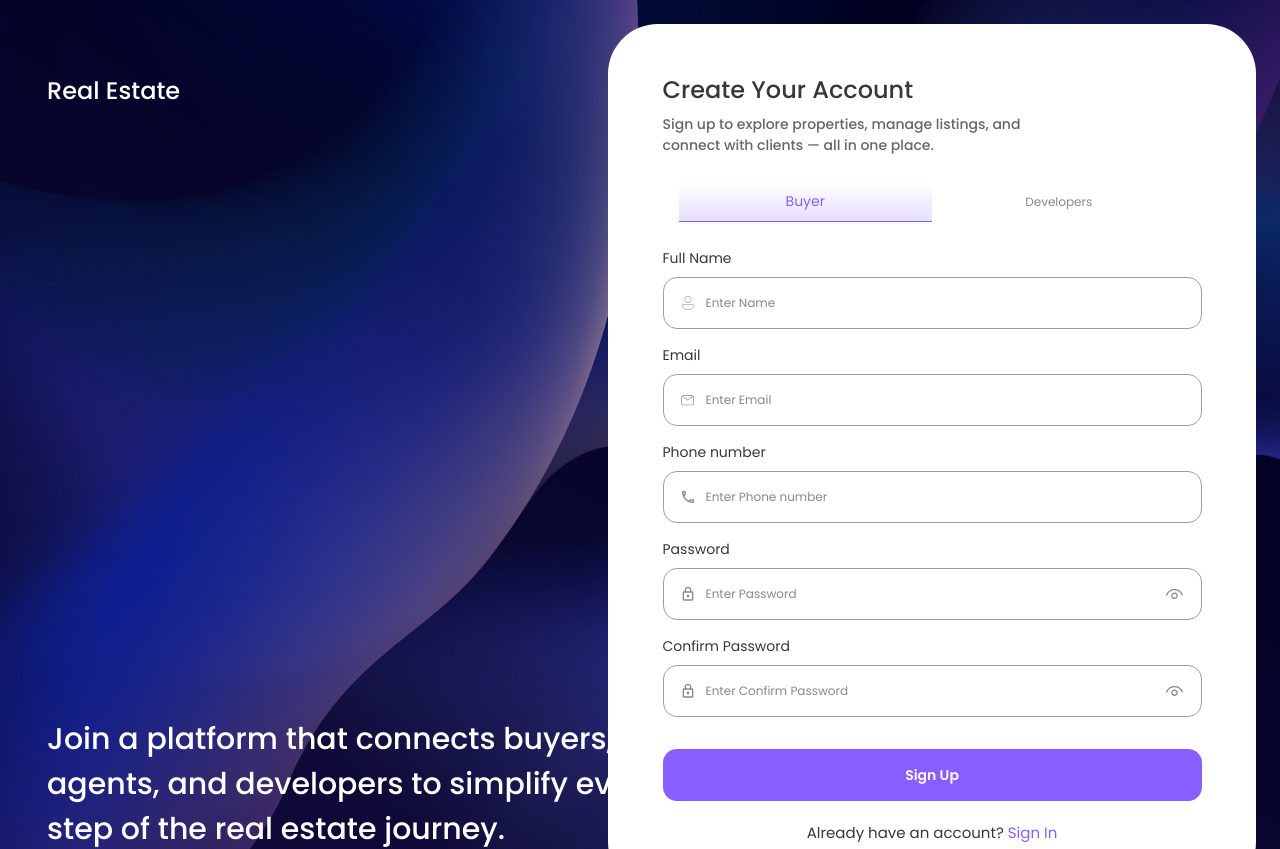
Test: SignUpPage › shows the shared format and policy messages
Step 1. Type "A" into the field labelled "Full Name" → (945, 303), box [706,278,1184,328]
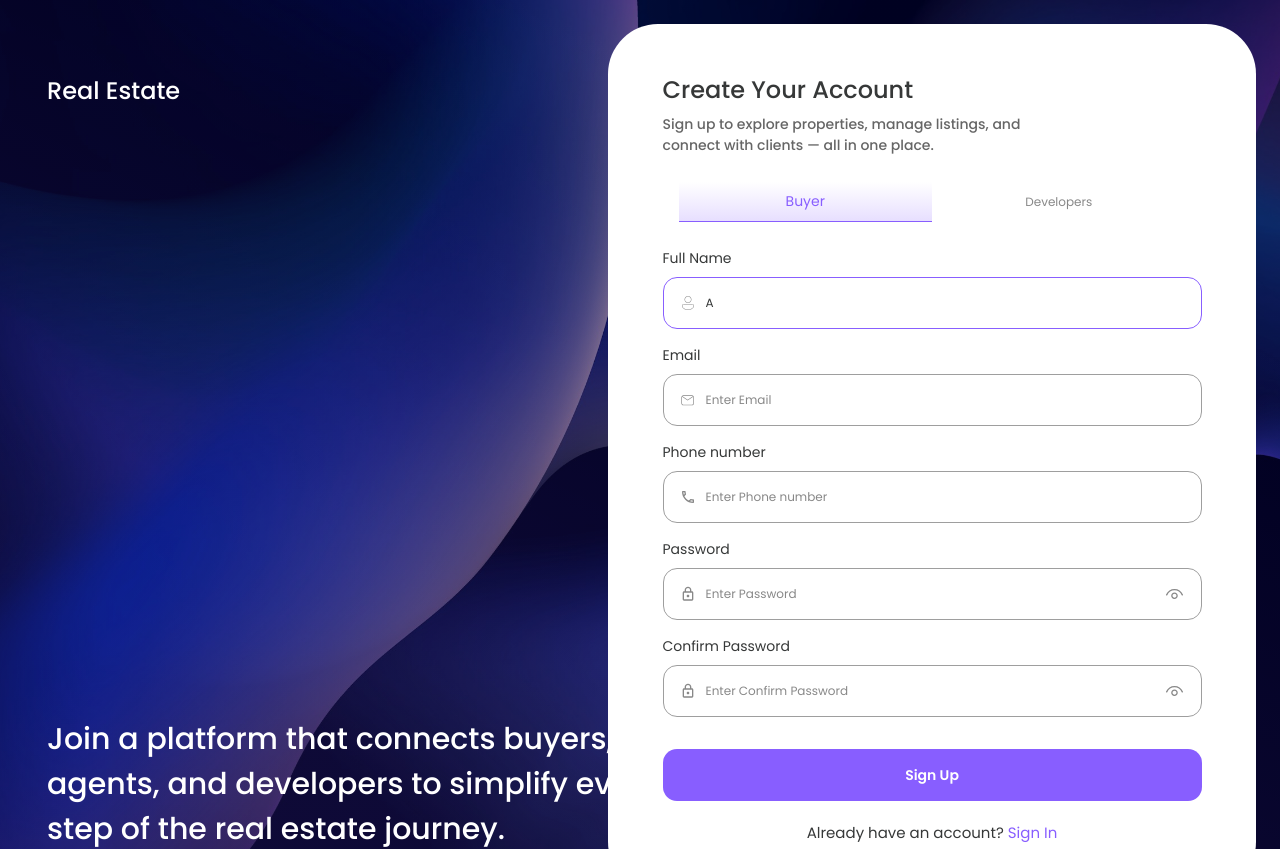
Step 2. Type "not-an-email" into the field labelled "Email" → (945, 400), box [706,375,1184,425]
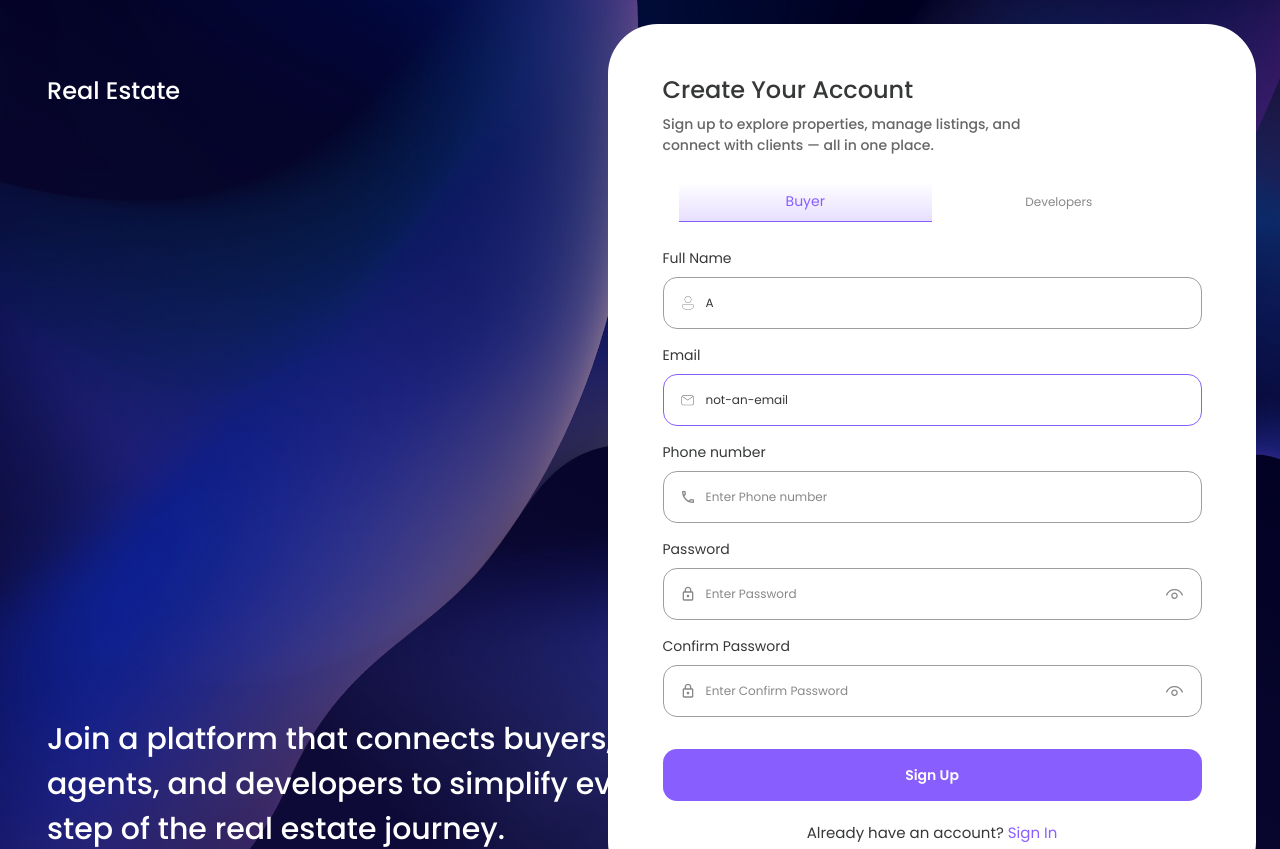
Step 3. Type "0501234567" into the field labelled "Phone number" → (945, 497), box [706,472,1184,522]
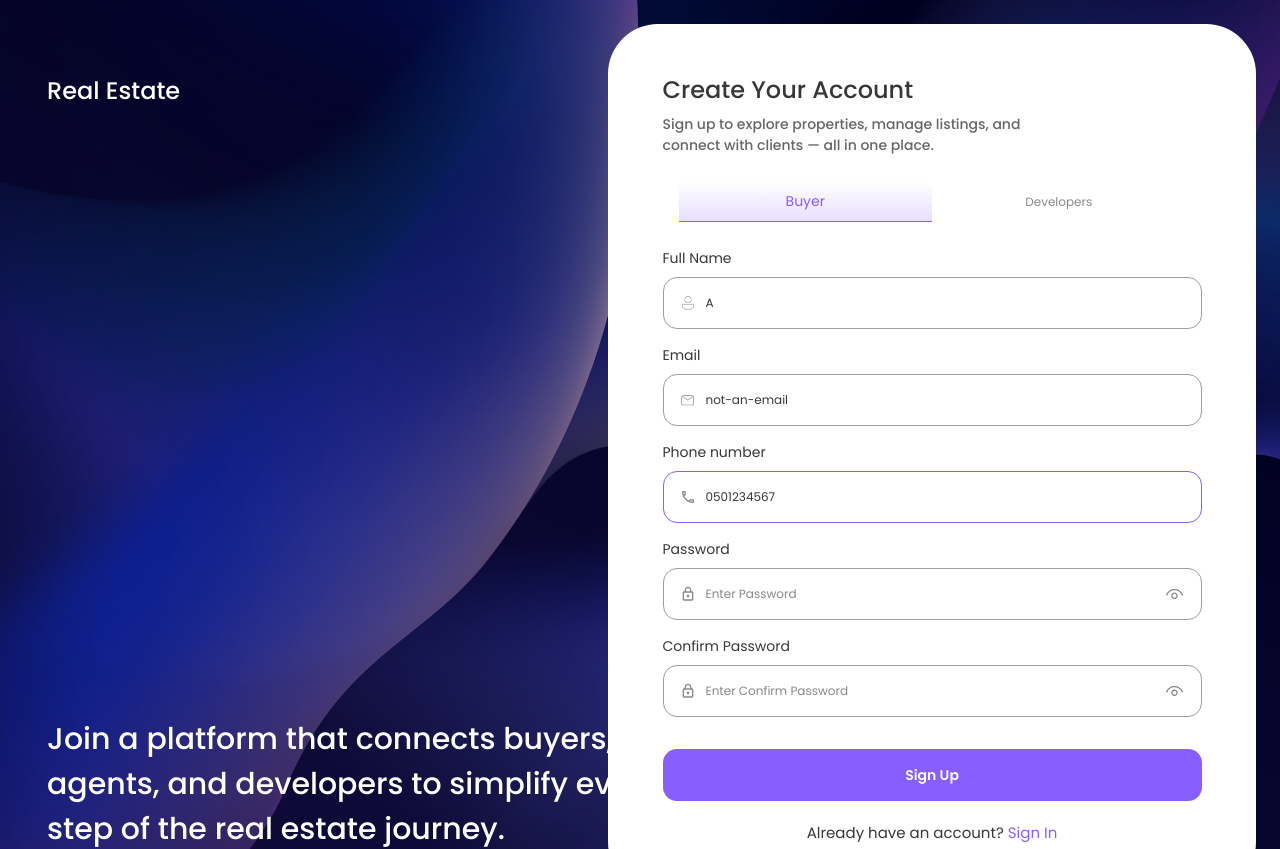
Step 4. Type "onlyletters" into the password field labelled "Password" → (930, 594), box [706,569,1154,619]
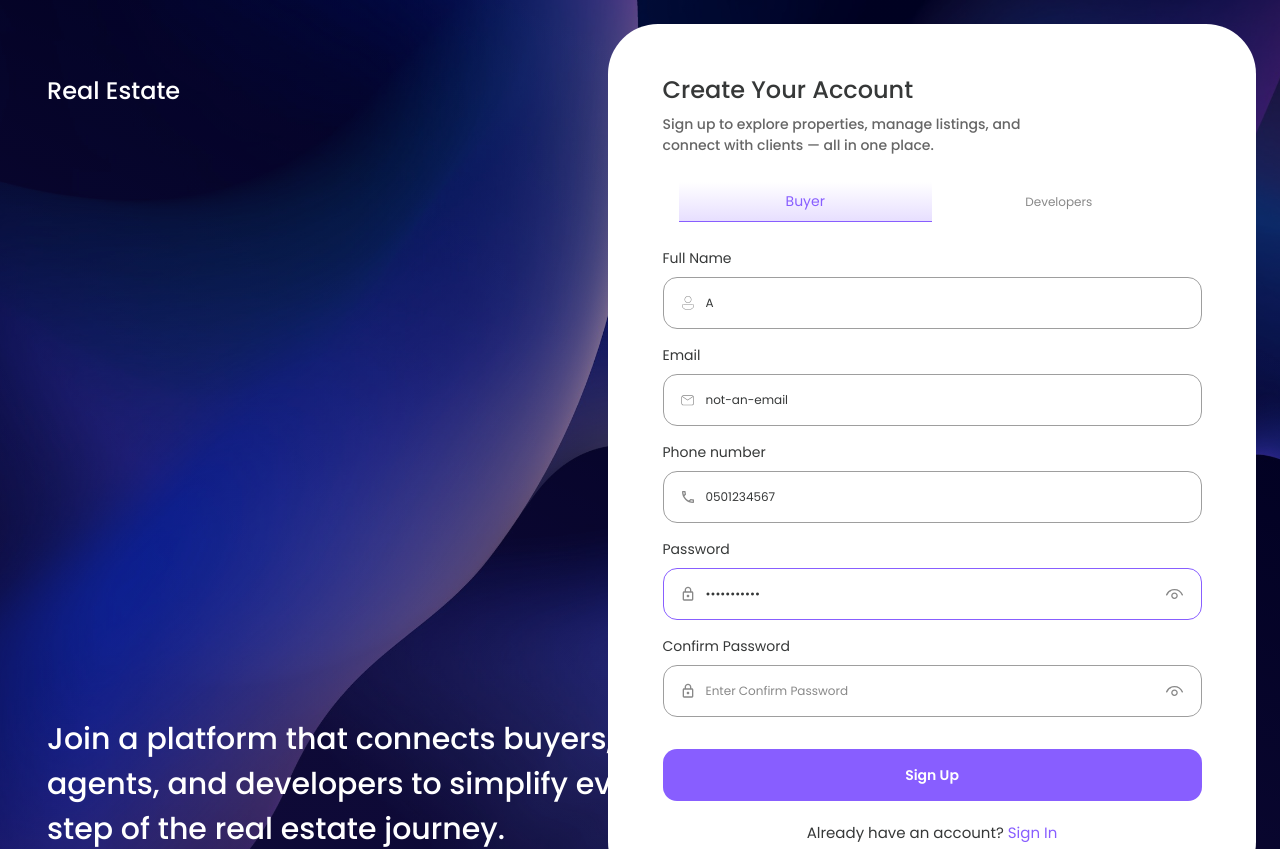
Step 5. Type "different1" into the password field labelled "Confirm Password" → (930, 691), box [706,666,1154,716]
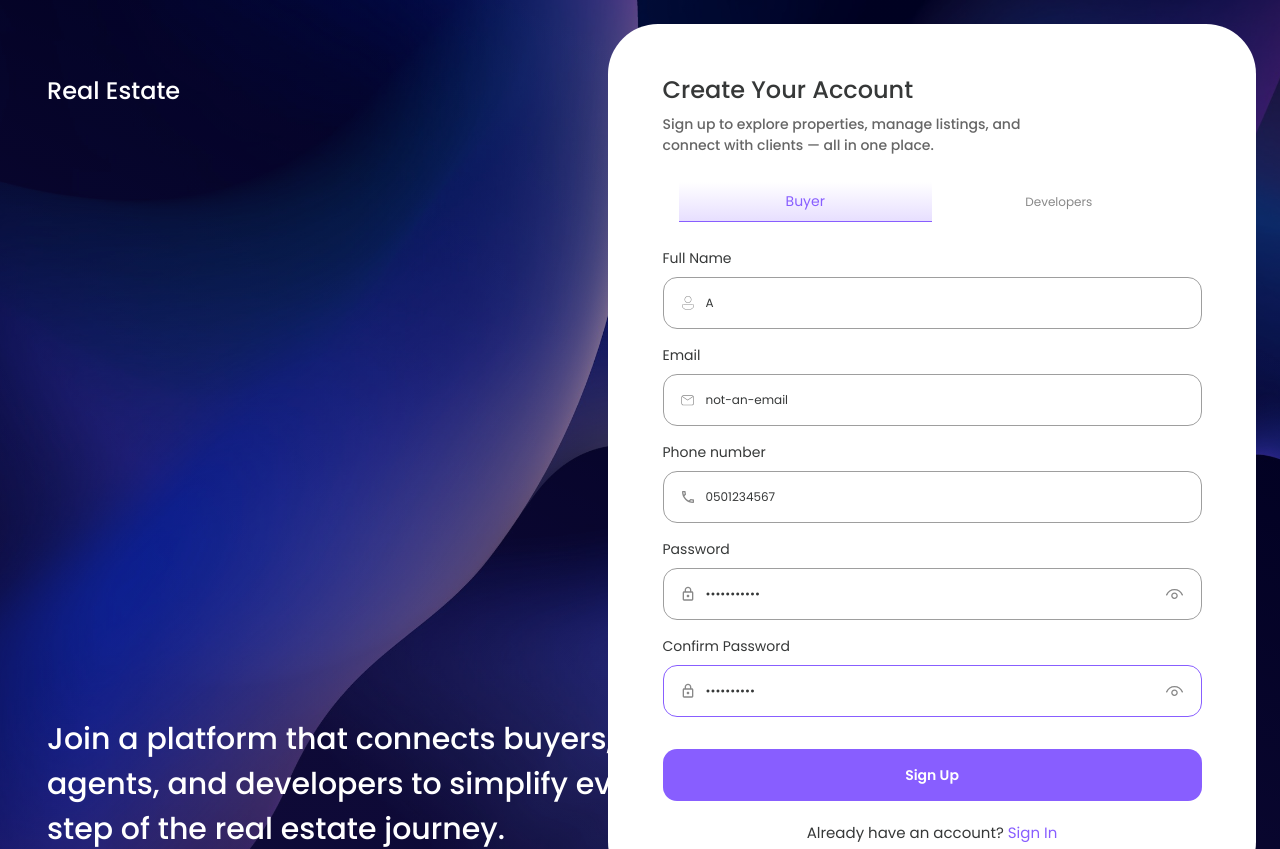
Step 6. Click the button "Sign Up" → (932, 775), box [662,749,1202,801]
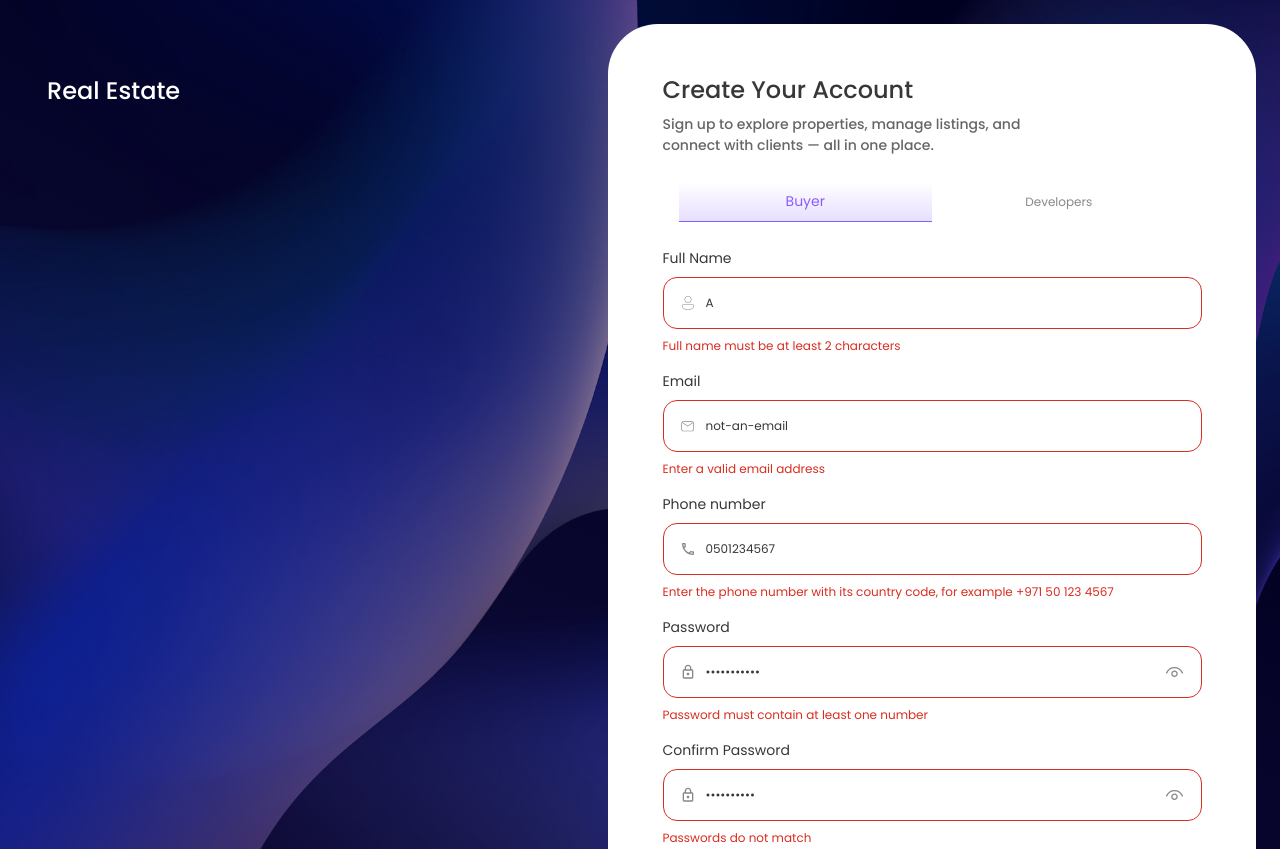
expect the text "Enter a valid email address" is shown: met, box [662,460,825,477]
expect the text "Enter the phone number with its country code, for example +971 50 123 4567" is shown: met, box [662,583,1114,600]
expect the text "Password must contain at least one number" is shown: met, box [662,706,928,723]
